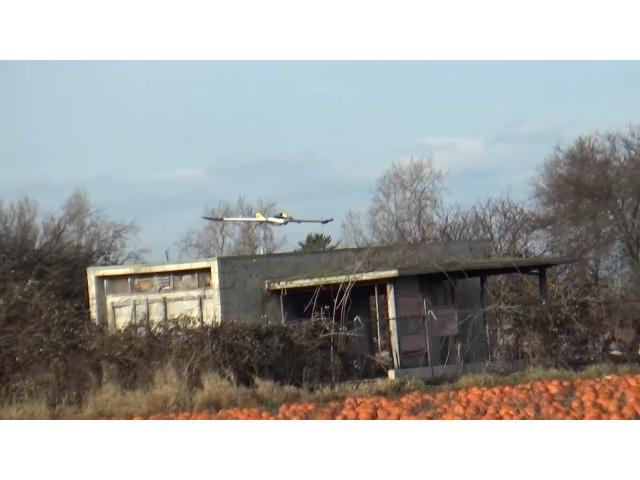Anti-Drone: (202, 212, 334, 226)
